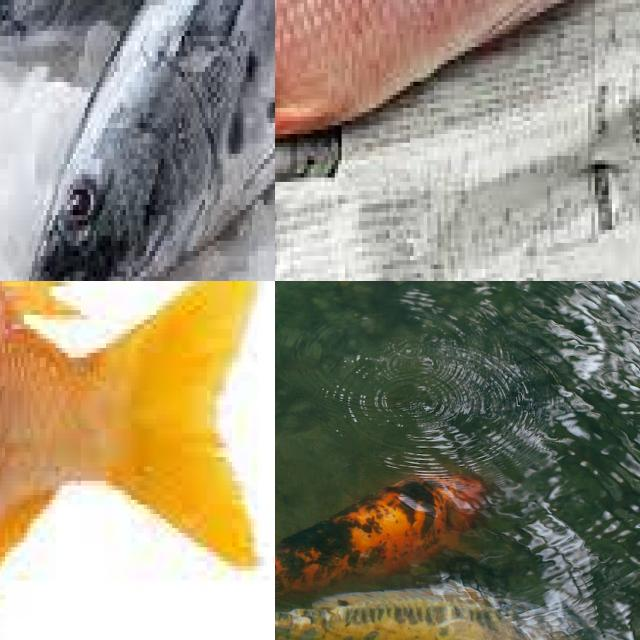fish: (275, 281, 619, 640), (0, 281, 275, 640), (0, 0, 275, 281), (275, 0, 640, 199)
